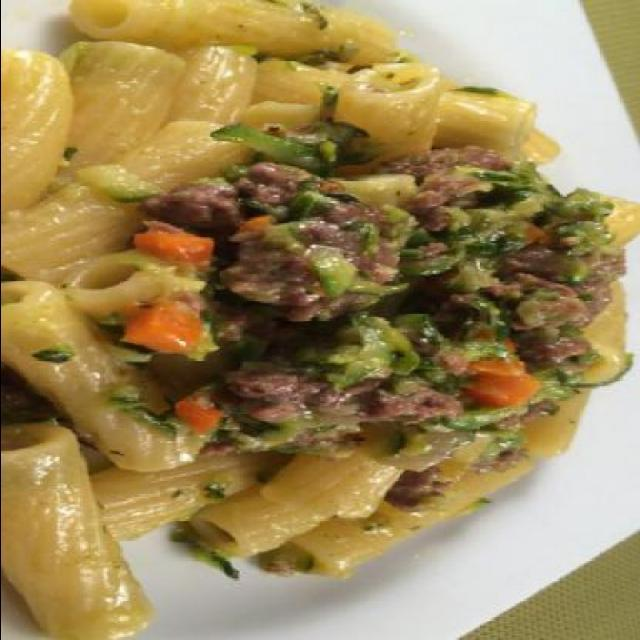Pasta al ragu: (5, 20, 638, 637)
